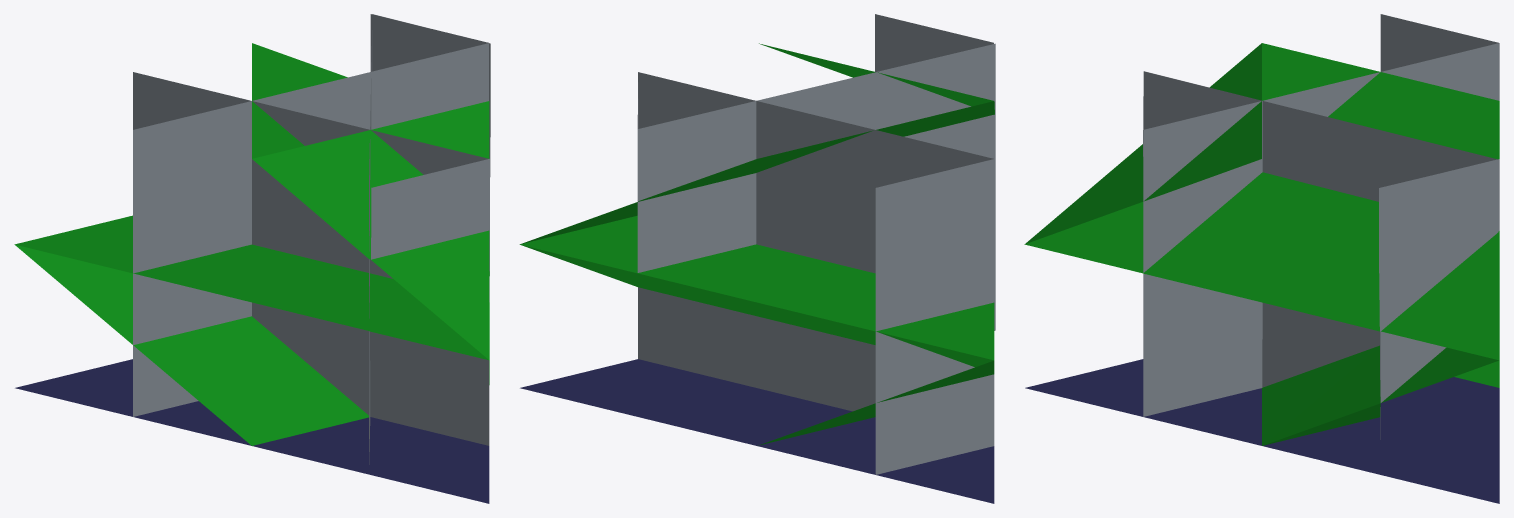
The model's file is modules.fbx.
3 views of the same model, side by side, from view 1: azimuth 30°, elevation 25°; view 2: azimuth 150°, elevation 25°; view 3: azimuth 270°, elevation 25° (orthographic).
Visible parts, largest first — view 1: FFF-CCE, HtEE-CEC, HHF-EEE, HtHtE-EEE, OOO-EEE, HtHtE-CEE, HFF-EEC, HtHtE-CTE, FFF-EEE, FFF-CEE, HtEE-TET, HtHtE-ECE (+12 smaller); view 2: EEE-CCE, HtHtE-ECC, EEE-TTE, OOO-EEE, FFF-CEE, EEE-CEE, HtHtE-CCE, HtHtE-EEE, HFF-EEE, HtOO-CEE, HFF-EEC, HtEE-CCE (+13 smaller); view 3: HFF-EEE, OOO-EEE, HtHtE-ECC, HtEE-CEC, HFF-CEC, HFF-ECE, HtHtE-ECE, HHF-EEE, HFF-EEC, HtHtE-CEE, HtEE-TET, HFF-CCE (+9 smaller).
Part boxes in pixels (x1=…): FFF-CCE: x1=133, y1=43, x2=488, y2=333; HtEE-CEC: x1=133, y1=72, x2=489, y2=445; HHF-EEE: x1=252, y1=101, x2=489, y2=359; HtHtE-EEE: x1=15, y1=244, x2=368, y2=445; OOO-EEE: x1=15, y1=359, x2=489, y2=503; HtHtE-CEE: x1=135, y1=316, x2=364, y2=444; HFF-EEC: x1=371, y1=158, x2=489, y2=301; HtHtE-CTE: x1=133, y1=282, x2=251, y2=442; FFF-EEE: x1=133, y1=255, x2=488, y2=360; FFF-CEE: x1=181, y1=244, x2=483, y2=357; HtEE-TET: x1=27, y1=224, x2=487, y2=369; HtHtE-ECE: x1=18, y1=14, x2=488, y2=442; EEE-CCE: x1=638, y1=72, x2=993, y2=404; HtHtE-ECC: x1=637, y1=43, x2=995, y2=330; EEE-TTE: x1=587, y1=215, x2=994, y2=409; OOO-EEE: x1=520, y1=359, x2=994, y2=503; FFF-CEE: x1=721, y1=159, x2=994, y2=331; EEE-CEE: x1=875, y1=168, x2=994, y2=474; HtHtE-CCE: x1=638, y1=73, x2=875, y2=246; HtHtE-EEE: x1=520, y1=244, x2=993, y2=367; HFF-EEE: x1=520, y1=101, x2=994, y2=244; HtOO-CEE: x1=761, y1=338, x2=970, y2=444; HFF-EEC: x1=875, y1=14, x2=993, y2=71; HtEE-CCE: x1=772, y1=349, x2=875, y2=411; HFF-EEE: x1=1075, y1=43, x2=1499, y2=360; OOO-EEE: x1=1025, y1=359, x2=1499, y2=503; HtHtE-ECC: x1=1219, y1=90, x2=1497, y2=387; HtEE-CEC: x1=1143, y1=43, x2=1499, y2=416; HFF-CEC: x1=1143, y1=74, x2=1371, y2=272; HFF-ECE: x1=1262, y1=101, x2=1499, y2=331; HtHtE-ECE: x1=1380, y1=159, x2=1499, y2=402; HHF-EEE: x1=1025, y1=43, x2=1261, y2=243; HFF-EEC: x1=1143, y1=96, x2=1261, y2=302; HtHtE-CEE: x1=1262, y1=16, x2=1492, y2=444; HtEE-TET: x1=1143, y1=274, x2=1262, y2=343; HFF-CCE: x1=1024, y1=202, x2=1143, y2=273.
Bounding box in the file's own units: 1.73 × 1.5 × 1.
